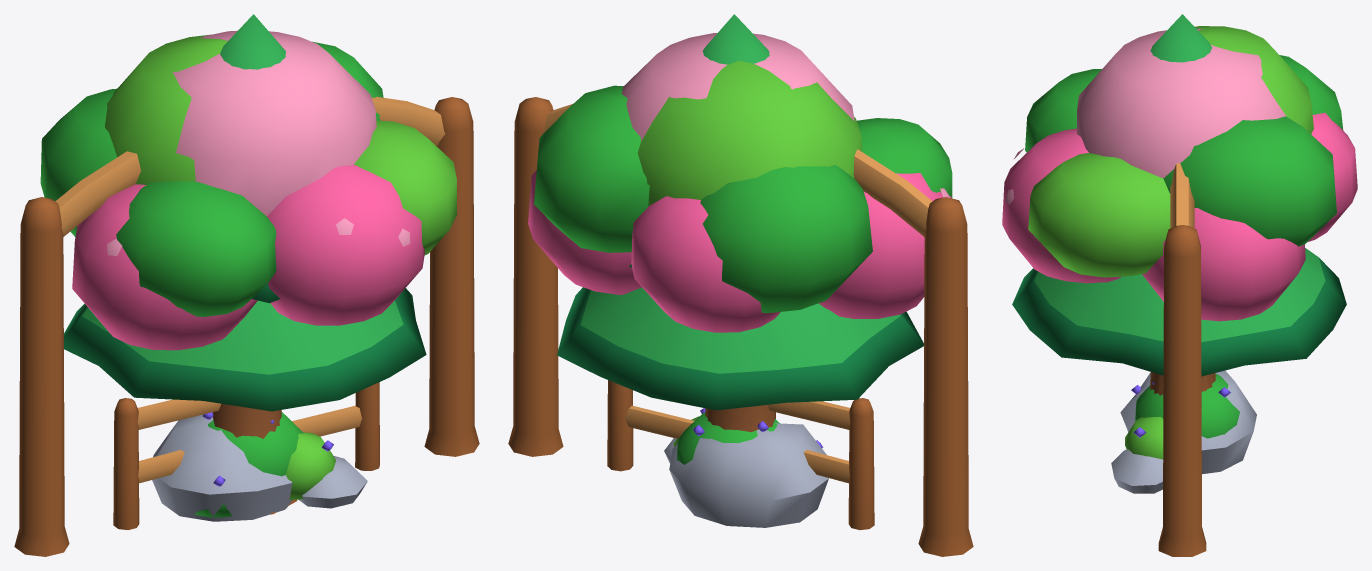
Rendered from scenery.glb.
The picture shows the model from 3 angles, left to right: view 1: azimuth 30°, elevation 25°; view 2: azimuth 150°, elevation 25°; view 3: azimuth 270°, elevation 25°; orthographic projection. The views are drawn at different scales.
Parts seen in each view (by area): view 1: tree_blossom, tree_round, gate, tree_pine, rock, fence, bush; view 2: tree_round, gate, tree_blossom, tree_pine, rock, fence, bush; view 3: tree_round, tree_blossom, tree_pine, gate, rock, bush.
Part boxes in pixels (x1=…): tree_blossom: x1=72, y1=30, x2=424, y2=507; tree_round: x1=40, y1=34, x2=457, y2=514; gate: x1=14, y1=96, x2=479, y2=556; tree_pine: x1=64, y1=14, x2=426, y2=411; rock: x1=152, y1=414, x2=367, y2=521; fence: x1=113, y1=382, x2=379, y2=529; bush: x1=195, y1=412, x2=335, y2=517; tree_round: x1=534, y1=61, x2=952, y2=431; gate: x1=508, y1=97, x2=973, y2=556; tree_blossom: x1=528, y1=33, x2=951, y2=429; tree_pine: x1=557, y1=14, x2=923, y2=410; rock: x1=664, y1=423, x2=828, y2=527; fence: x1=607, y1=380, x2=874, y2=529; bush: x1=673, y1=408, x2=823, y2=464; tree_round: x1=1025, y1=26, x2=1343, y2=395; tree_blossom: x1=1002, y1=28, x2=1357, y2=393; tree_pine: x1=1012, y1=14, x2=1346, y2=376; gate: x1=1158, y1=163, x2=1206, y2=556; rock: x1=1111, y1=370, x2=1256, y2=493; bush: x1=1125, y1=374, x2=1239, y2=459.
Bounding box in the file's own units: 3.77 × 3.81 × 2.76.
